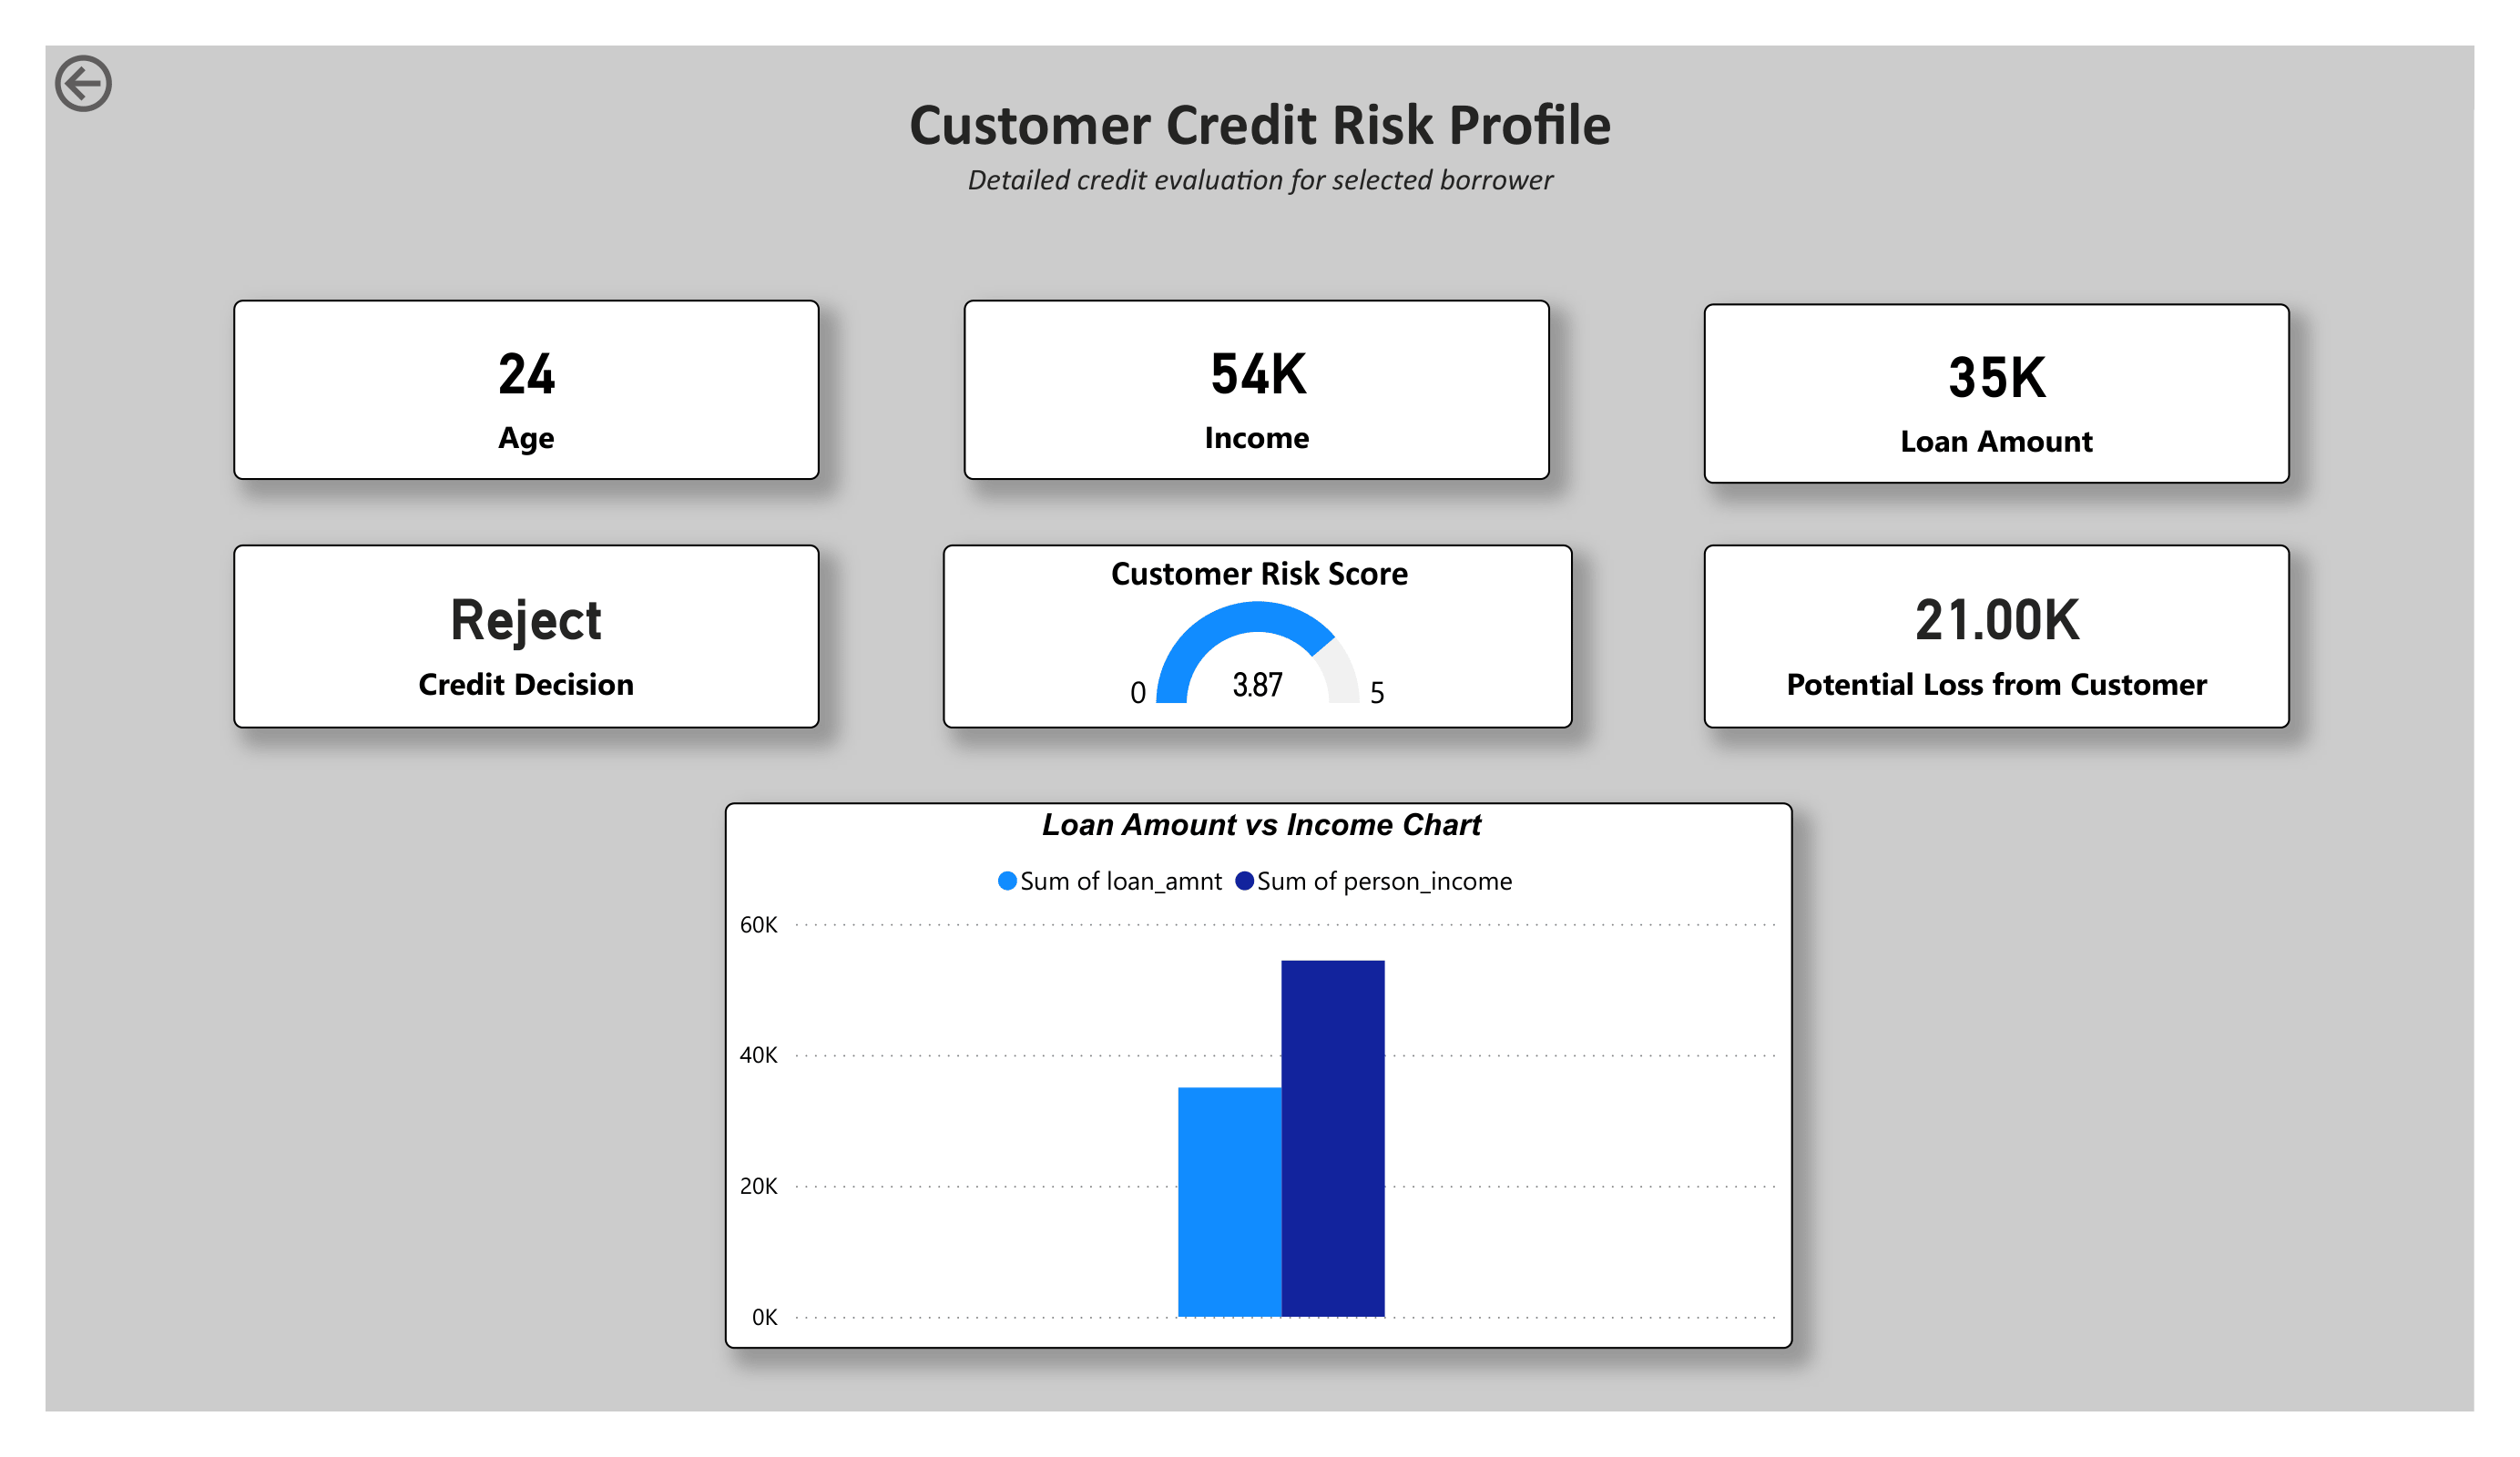

Layout of this report page (visuals, bound fields, positions):
{"tool":"powerbi","page":{"name":"Customer Profile","canvas":[1280,720],"ordinal":3},"visuals":[{"type":"actionButton","box":[0,0,75.5,39.8],"z":0},{"type":"card","fields":{"Values":["Max(risk_data_mart bnpl_risk_featured.person_age)"]},"box":[98.8,134.5,308.7,94.7],"z":1000},{"type":"card","fields":{"Values":["Max(risk_data_mart bnpl_risk_featured.person_income)"]},"box":[484.4,134.5,308.7,94.7],"z":2000},{"type":"card","fields":{"Values":["Max(risk_data_mart bnpl_risk_featured.loan_amnt)"]},"box":[874.1,135.8,308.7,94.7],"z":3000},{"type":"card","fields":{"Values":["Max(risk_data_mart bnpl_risk_featured.Expected_loss)"]},"box":[874.1,263.5,308.7,96.1],"z":4000},{"type":"gauge","title":"Customer Risk Score","fields":{"Y":["Sum(risk_data_mart bnpl_risk_featured.risk_score)"],"MinValue":["risk_data_mart bnpl_risk_featured.Min Risk"],"MaxValue":["risk_data_mart bnpl_risk_featured.Max Risk"]},"box":[473.4,263.5,332.1,96.1],"z":5000},{"type":"clusteredColumnChart","title":"Loan Amount vs Income Chart","fields":{"Y":["Sum(risk_data_mart bnpl_risk_featured.loan_amnt)","Sum(risk_data_mart bnpl_risk_featured.person_income)"]},"box":[358.1,399.3,562.6,288.2],"z":6000},{"type":"card","fields":{"Values":["Min(risk_data_mart bnpl_risk_featured.credit_decision)"]},"box":[98.8,263.5,308.7,96.1],"z":7000},{"type":"textbox","box":[38.3,16.7,1205,85],"z":7001}]}

Visuals, with their boxes on the page's 1280x720 design canvas (x1, y1, x2, y2). These are canvas units, not pixel positions in the 2520x1457 screenshot, which may show the page scaled, cropped or inside an application window:
actionButton: {"left": 0, "top": 0, "right": 76, "bottom": 40}
card - Max(risk_data_mart bnpl_risk_featured.person_age): {"left": 99, "top": 134, "right": 408, "bottom": 229}
card - Max(risk_data_mart bnpl_risk_featured.person_income): {"left": 484, "top": 134, "right": 793, "bottom": 229}
card - Max(risk_data_mart bnpl_risk_featured.loan_amnt): {"left": 874, "top": 136, "right": 1183, "bottom": 230}
card - Max(risk_data_mart bnpl_risk_featured.Expected_loss): {"left": 874, "top": 264, "right": 1183, "bottom": 360}
"Customer Risk Score" gauge: {"left": 473, "top": 264, "right": 806, "bottom": 360}
"Loan Amount vs Income Chart" clusteredColumnChart: {"left": 358, "top": 399, "right": 921, "bottom": 688}
card - Min(risk_data_mart bnpl_risk_featured.credit_decision): {"left": 99, "top": 264, "right": 408, "bottom": 360}
textbox: {"left": 38, "top": 17, "right": 1243, "bottom": 102}
